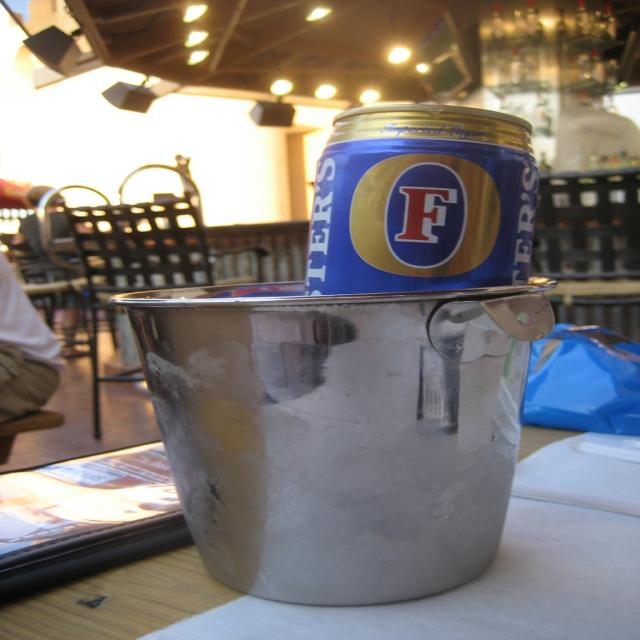fosters: (344, 150, 506, 281)
